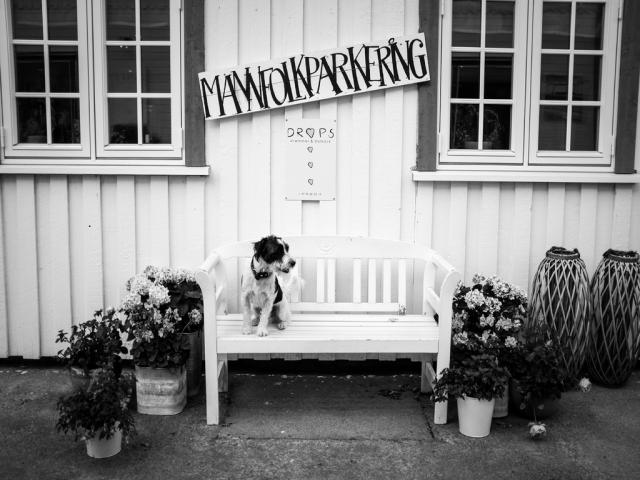Dog: (242, 233, 302, 336)
